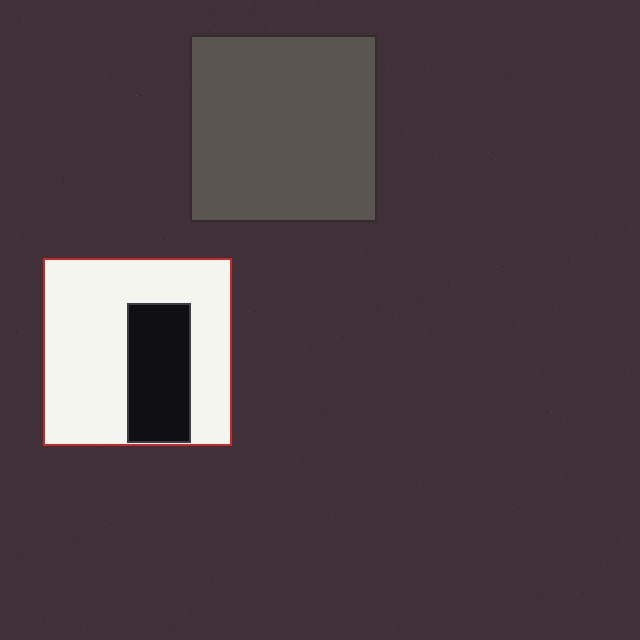book: (43, 258, 231, 445)
concrete_damage: (190, 35, 376, 221)
phone: (127, 303, 254, 442)
